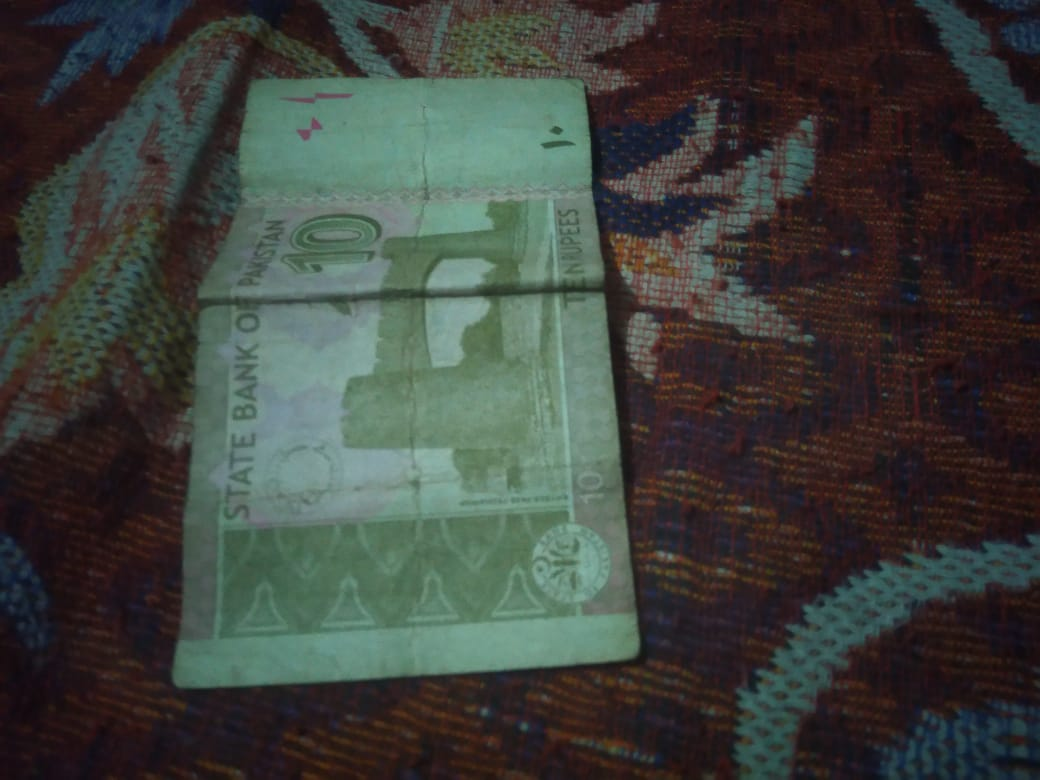10 rupee: (176, 75, 648, 679)
